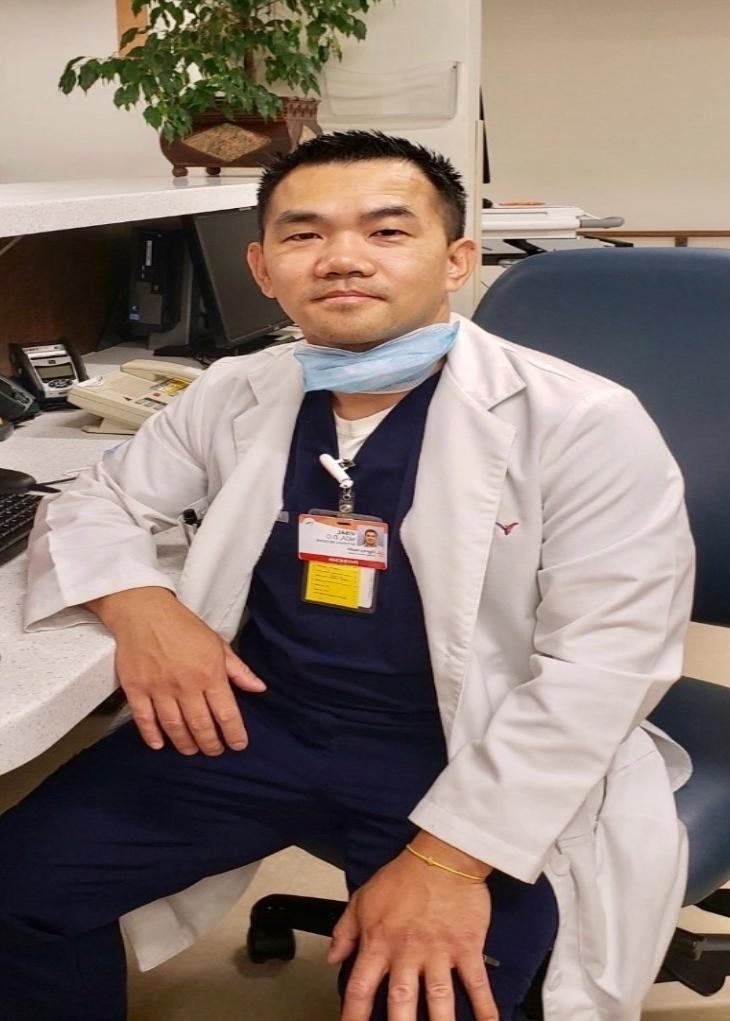mask_weared_incorrect: (250, 130, 477, 366)
